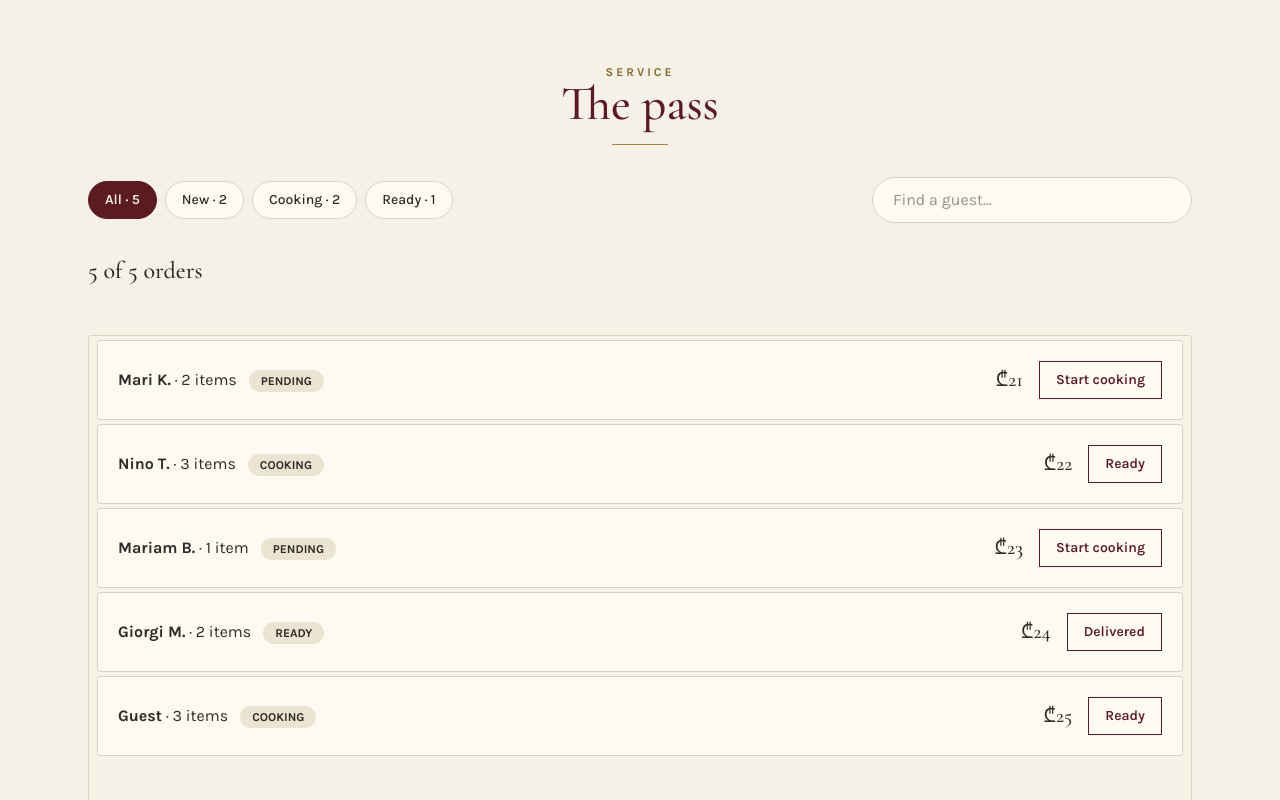
KitchenPage › shows only the orders of the tab the cook chooses
Expected: the text "5 of 5 orders" is shown, [88, 256, 203, 285]
Click the button "Cooking · 2" at {"x": 305, "y": 200}, box [252, 181, 357, 219]
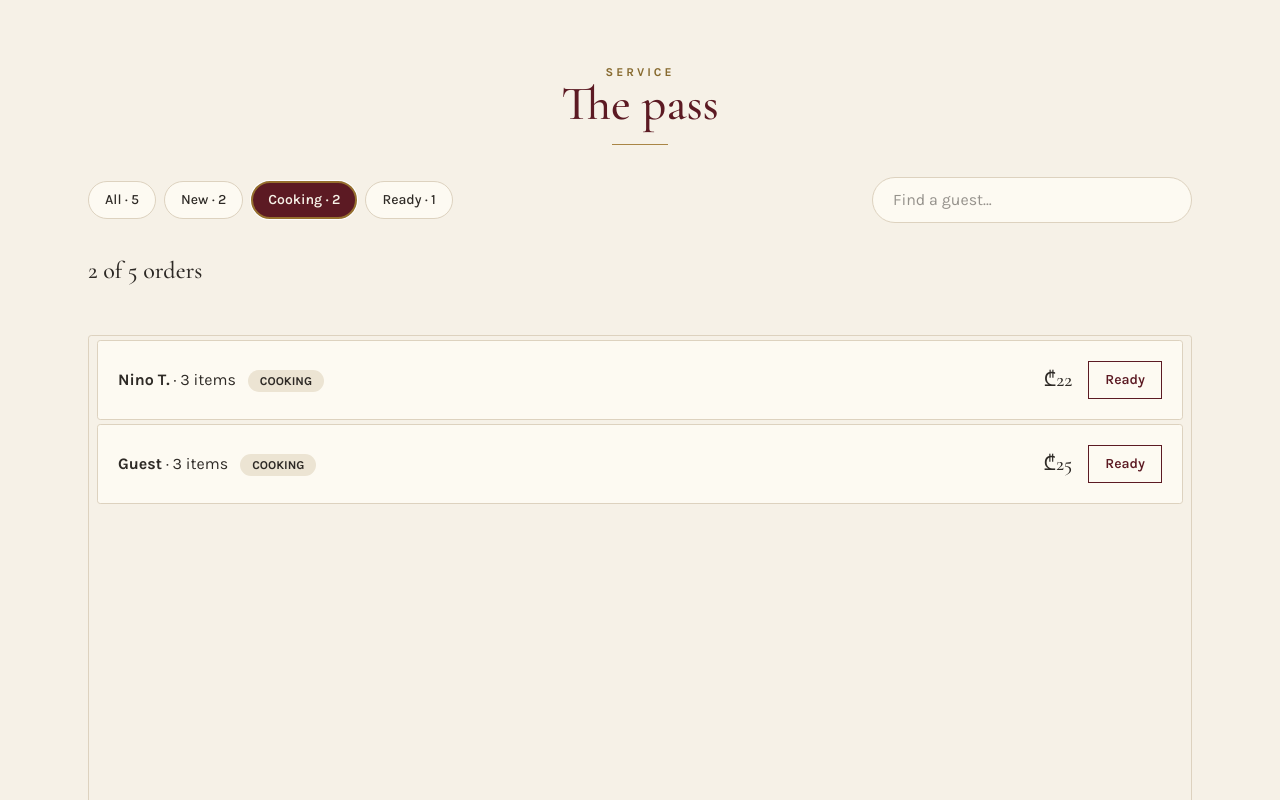
Now the text "2 of 5 orders" is shown, box [88, 256, 202, 285]
